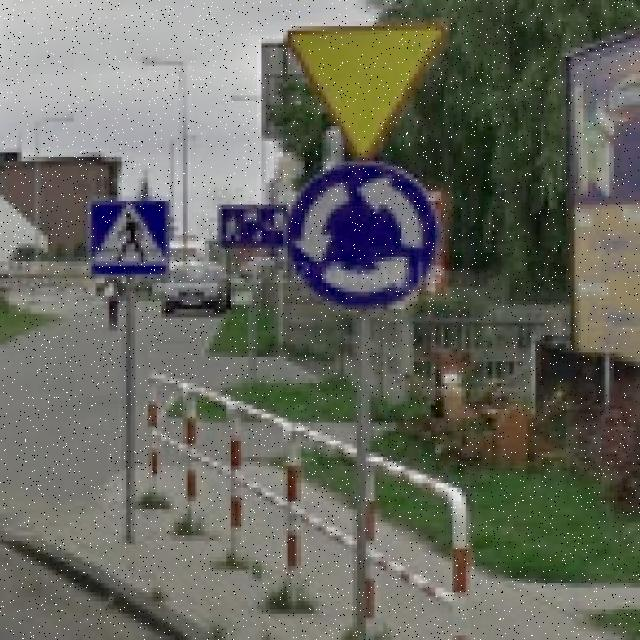Przejscie dla pieszych: (87, 195, 170, 278)
Ustap pierwszenstwa: (281, 20, 447, 164)
